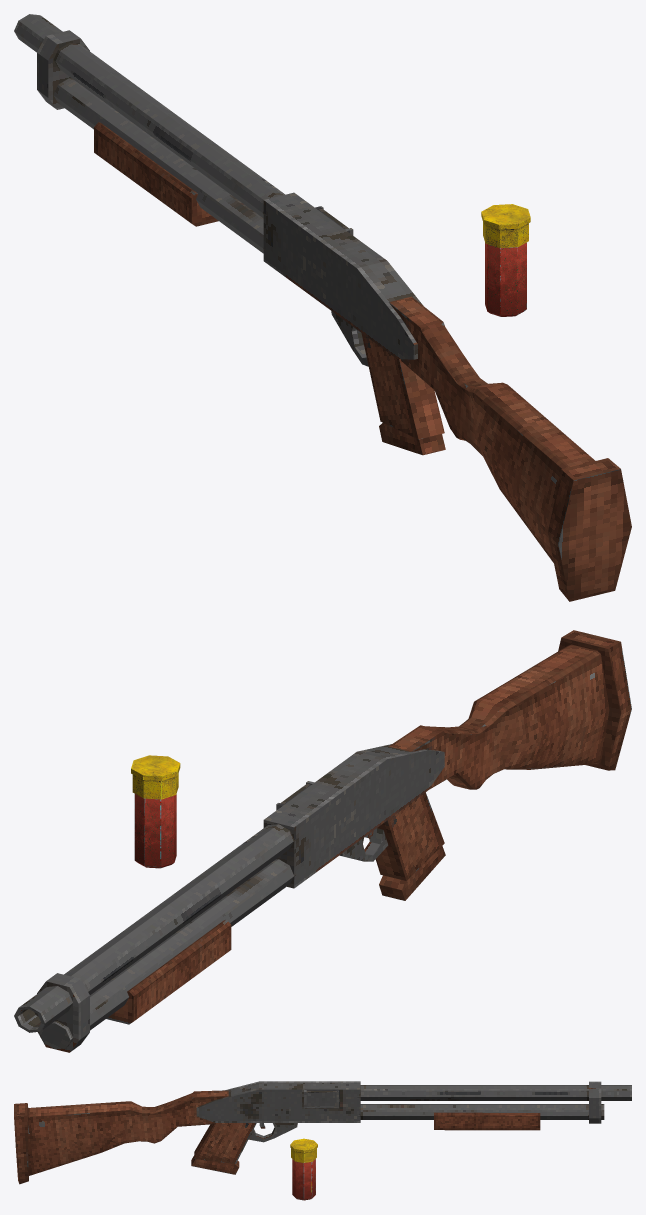
Rendered from Shotgun.glb.
3 views of the same model, one above another, from view 1: azimuth 30°, elevation 25°; view 2: azimuth 150°, elevation 25°; view 3: azimuth 270°, elevation 25° (orthographic). The views are drawn at different scales.
Parts seen in each view (by area): view 1: Shotgun, Shell, Shotgun-Detach; view 2: Shotgun, Shell, Shotgun-Detach; view 3: Shotgun, Shotgun-Detach, Shell.
Boxes of the visible parts, box(x1,y1,x2,y2) form: Shotgun: box(14, 14, 631, 601); Shell: box(481, 204, 530, 316); Shotgun-Detach: box(94, 122, 218, 226); Shotgun: box(14, 630, 631, 1052); Shell: box(131, 755, 180, 868); Shotgun-Detach: box(106, 919, 231, 1024); Shotgun: box(14, 1081, 631, 1184); Shotgun-Detach: box(434, 1112, 540, 1130); Shell: box(290, 1138, 317, 1200).
Size of the model in its own units: 0.3299 by 0.2316 by 1.39.
Materials: 2 (2 with a texture image).
